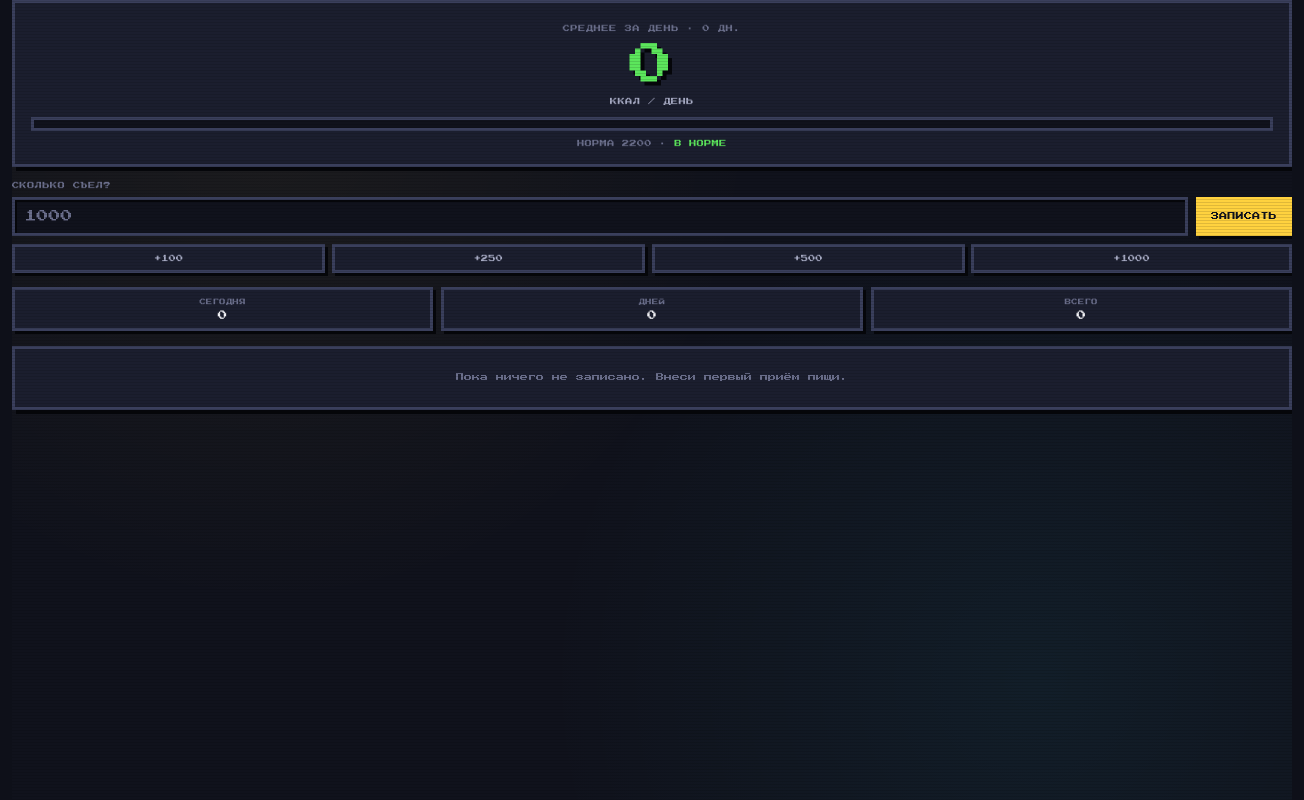
it: CaloriePageComponent › average display › turns red and labelled "ПРЕВЫШЕНА" once the norm is exceeded
The image size is (1304, 800).
Type "5000" into the number field with class "entry-input" at (600, 216), box [12, 197, 1188, 236]
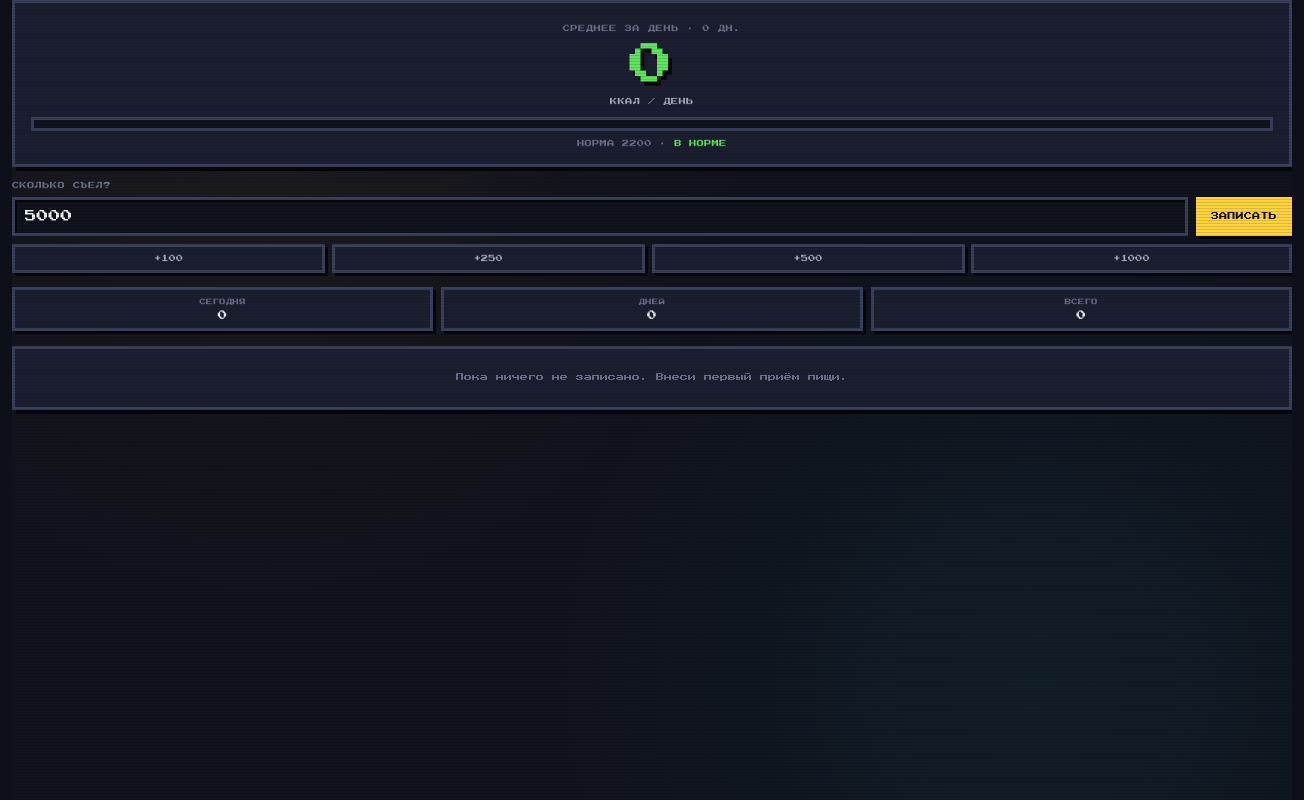
Submit the form with class "entry-form", box [12, 182, 1292, 272]
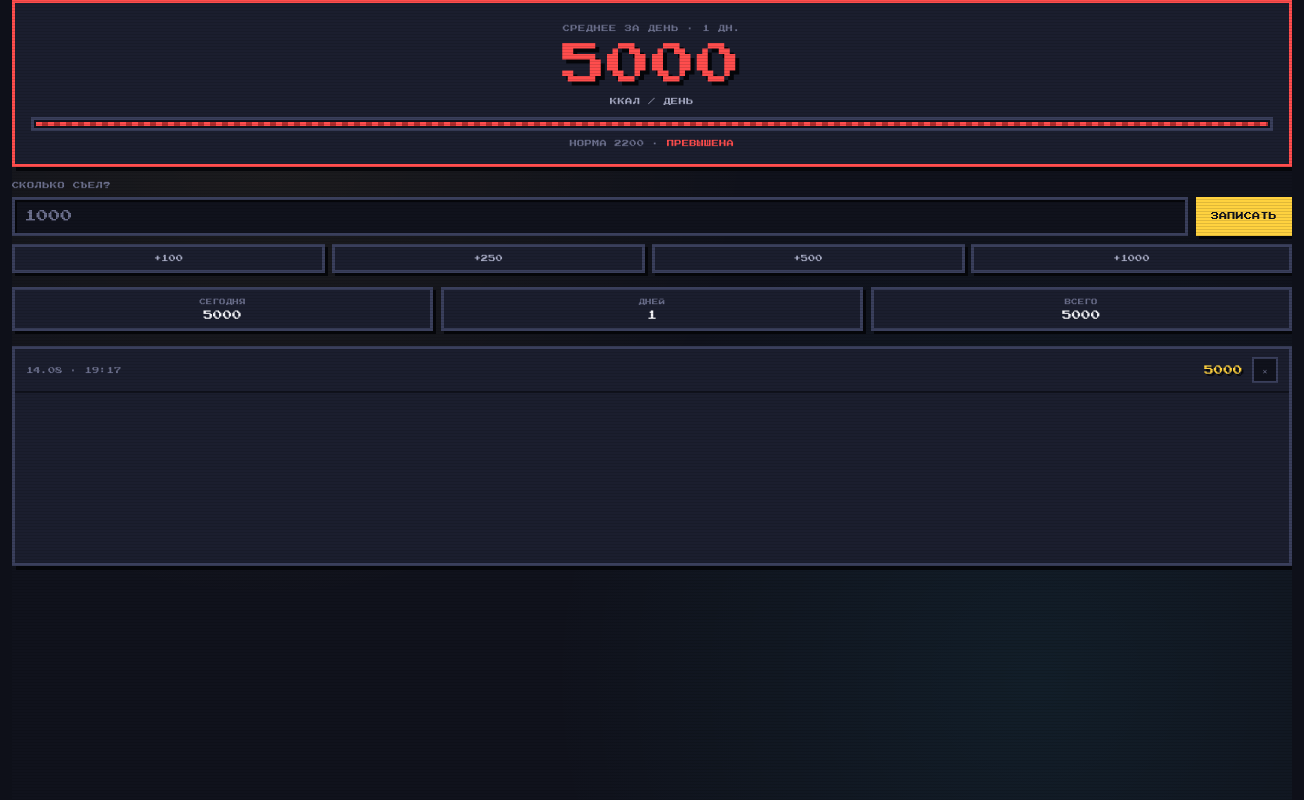
Check: the text with class "norm-state" reads "ПРЕВЫШЕНА", box [667, 140, 734, 147]
